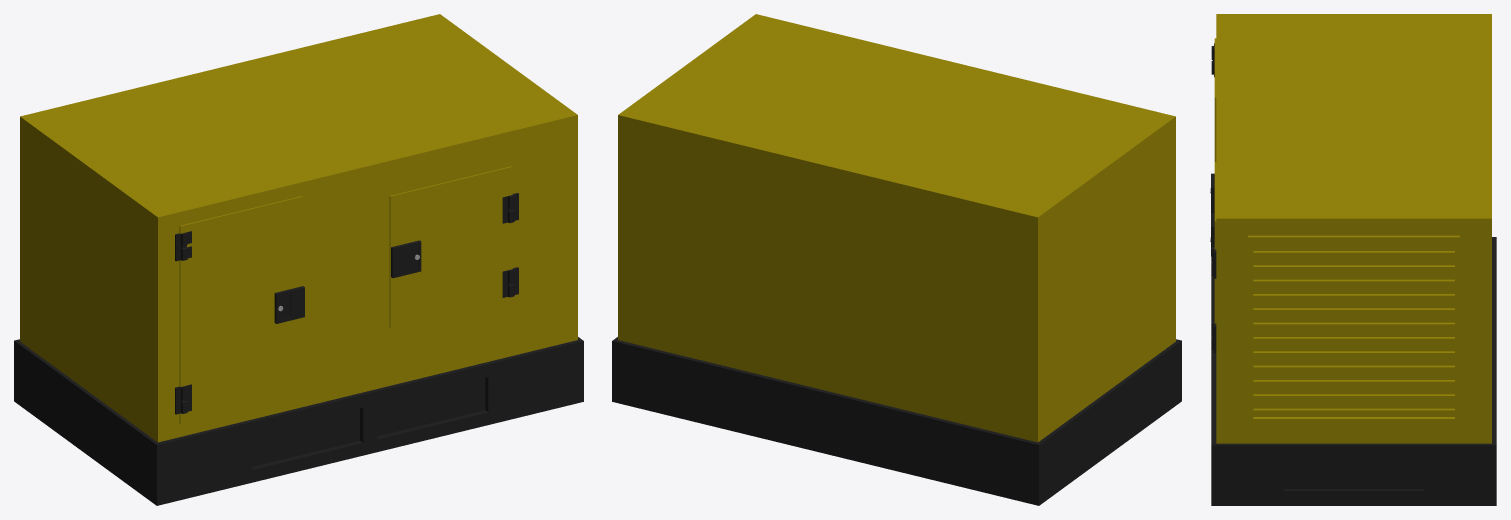
File: Gerador.fbx
The picture shows the model from 3 angles, left to right: view 1: azimuth 30°, elevation 25°; view 2: azimuth 150°, elevation 25°; view 3: azimuth 270°, elevation 25°; orthographic projection.
Parts seen in each view (by area): view 1: Gerador; view 2: Gerador; view 3: Gerador.
Boxes of the visible parts, x1,y1,x2,y2 form: Gerador: (14, 14, 583, 505); Gerador: (612, 14, 1181, 505); Gerador: (1210, 14, 1496, 505).
Bounding box in the file's own units: 934 × 598 × 543.
